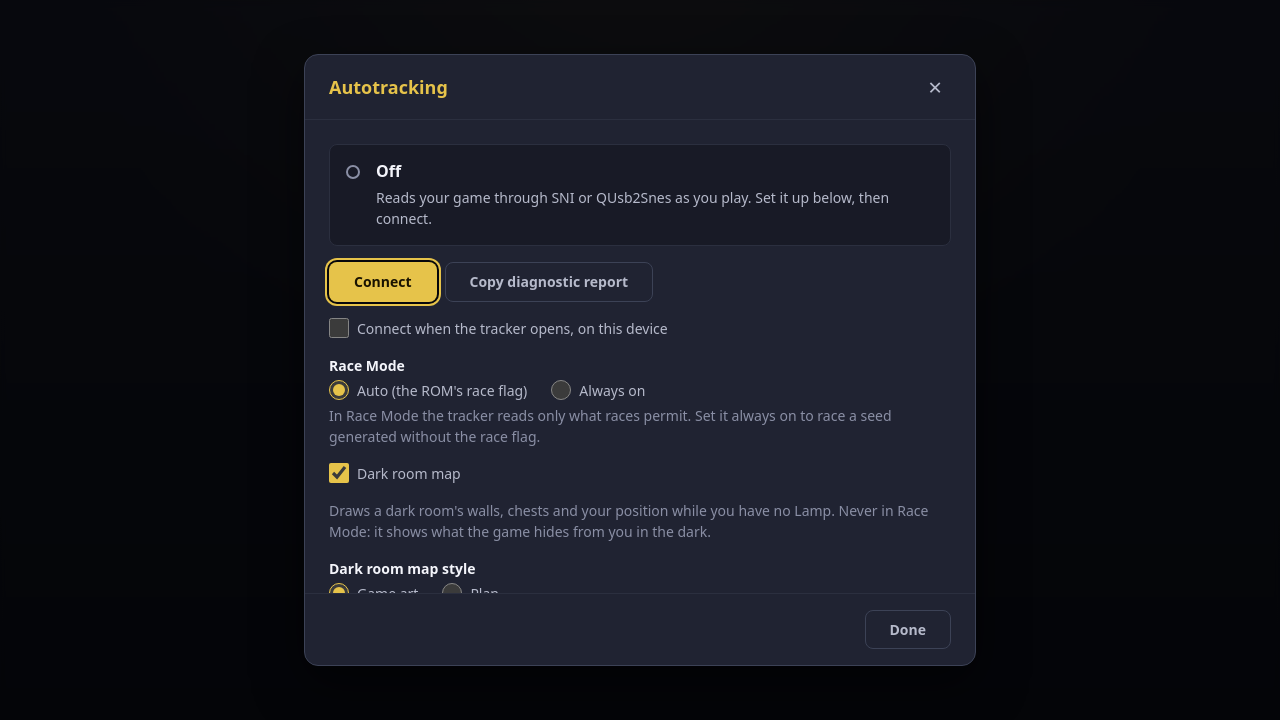
Test: AutotrackDialog's actions › connects, retries and disconnects
What coordinates should you click on to do the following:
click the button with test id "autotrack-connect"
I would click on:
 (383, 282)
Its box is x1=329 y1=262 x2=436 y2=302.
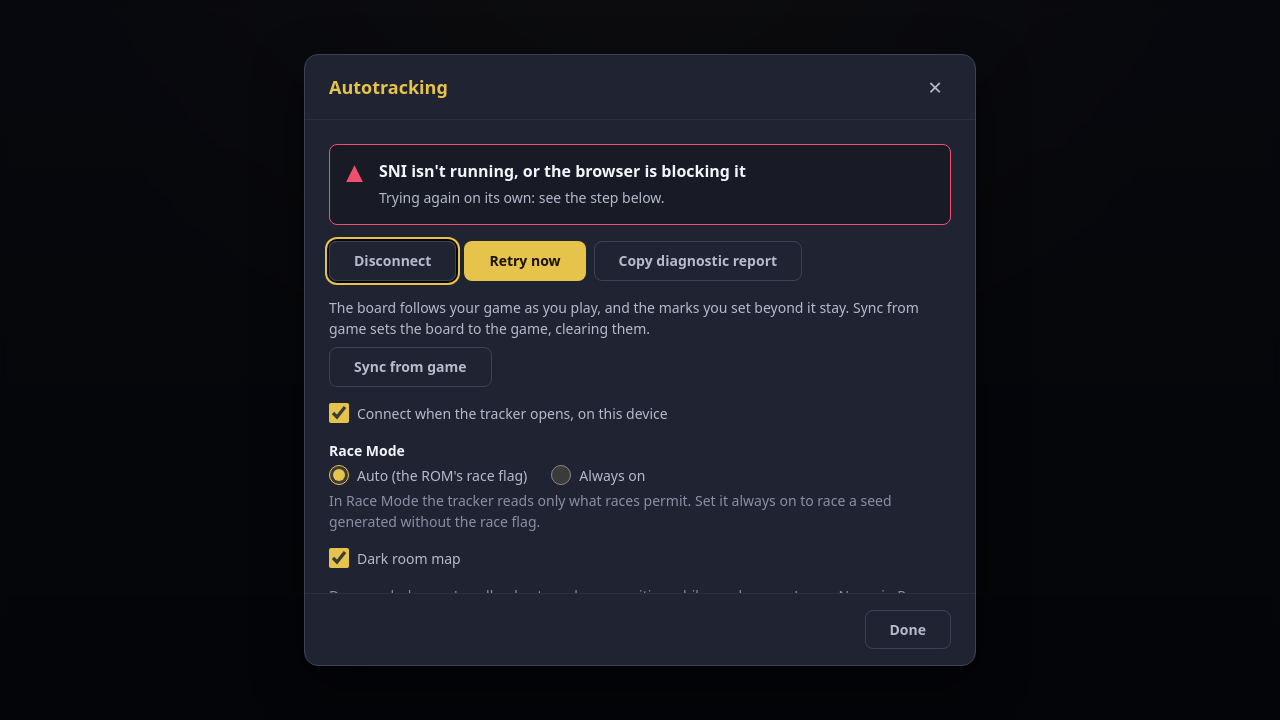
expect the text with test id "autotrack-headline" reads "SNI isn't running, or the browser is blocking it": met, box x1=379 y1=160 x2=746 y2=182
What coordinates should you click on to do the following:
click the button with test id "autotrack-retry"
I would click on:
 (525, 261)
Its box is x1=464 y1=241 x2=586 y2=281.
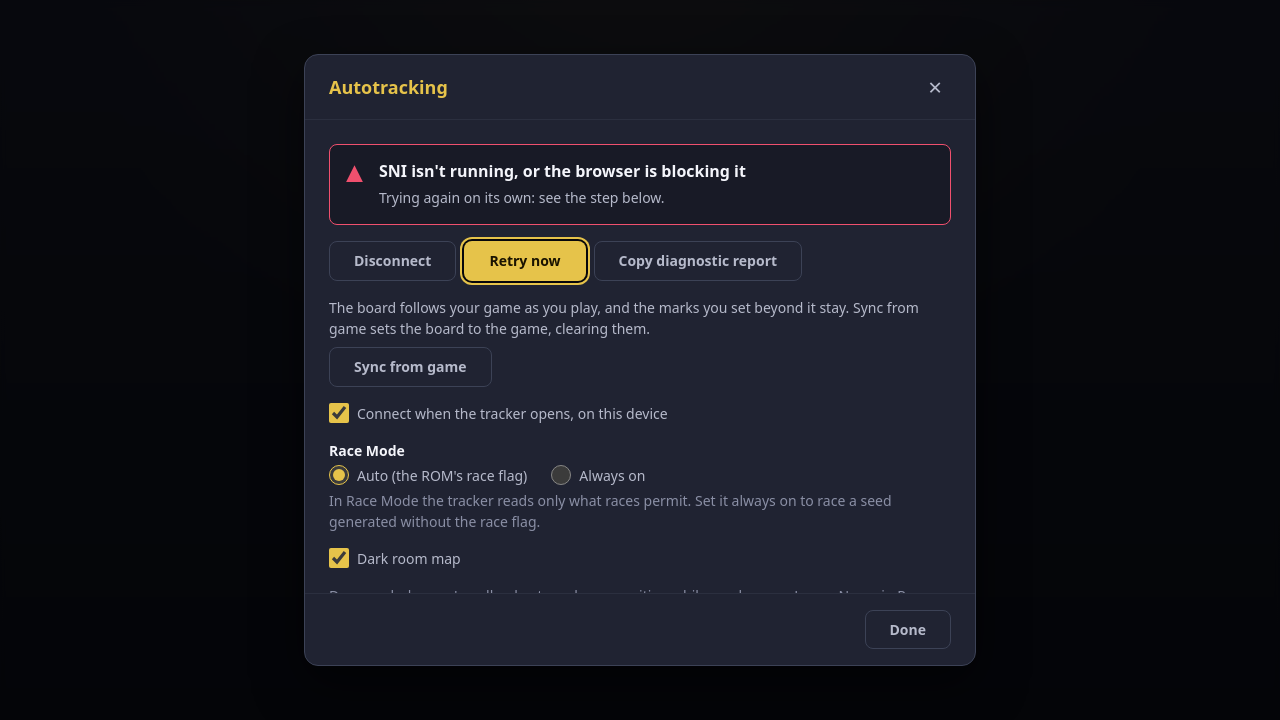
What coordinates should you click on to do the following:
click the button with test id "autotrack-disconnect"
I would click on:
 (393, 261)
Its box is x1=329 y1=241 x2=456 y2=281.
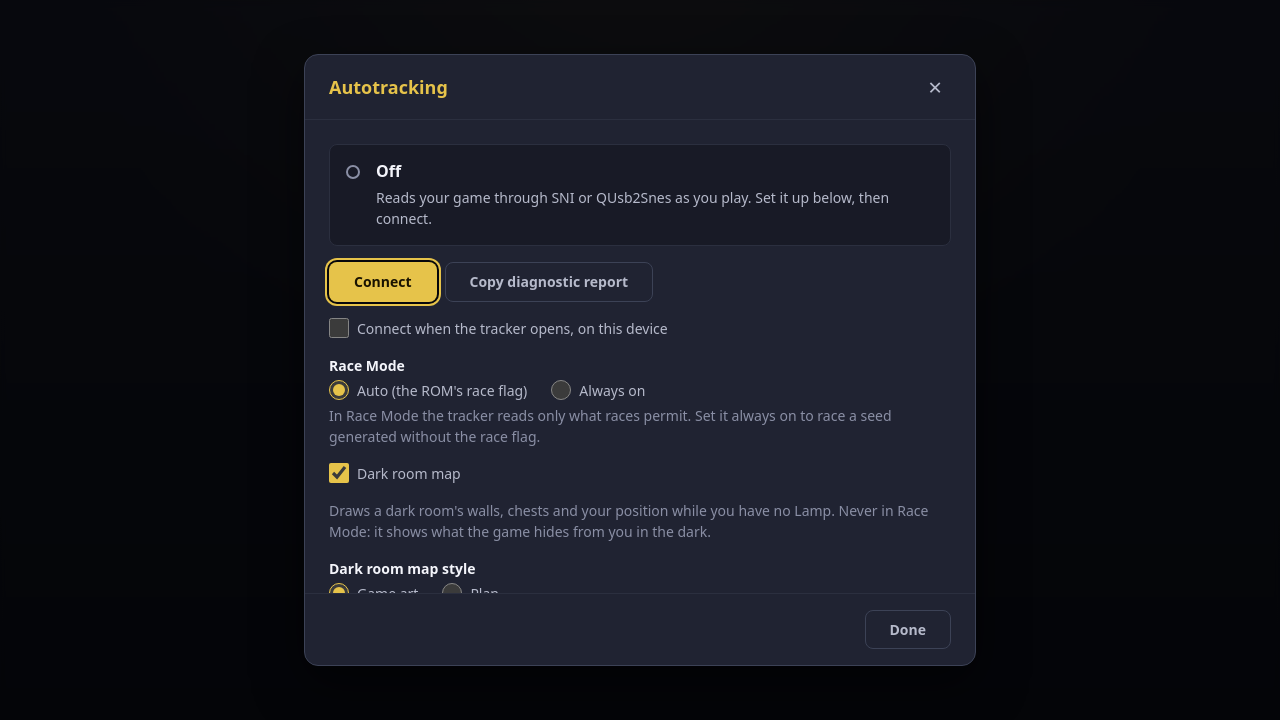
expect the text with test id "autotrack-headline" reads "Off": met, box x1=376 y1=160 x2=401 y2=182
